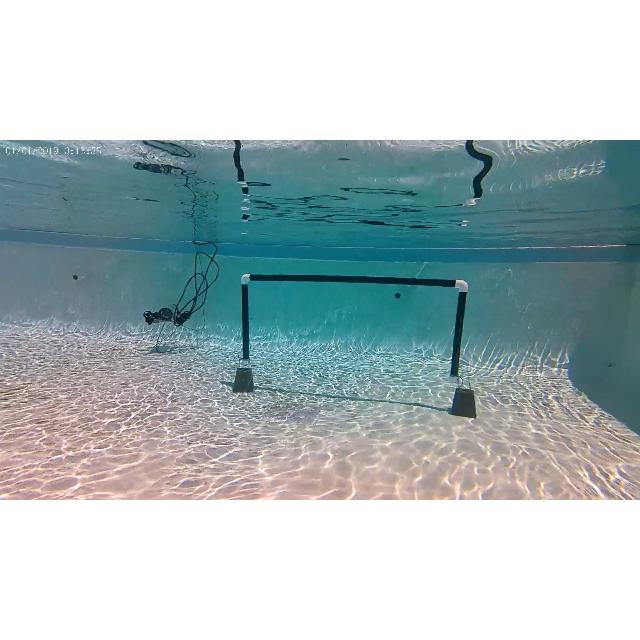prequal gate: (241, 273, 469, 383)
prequal gate leg l: (240, 272, 256, 371)
prequal gate leg r: (446, 278, 469, 384)
